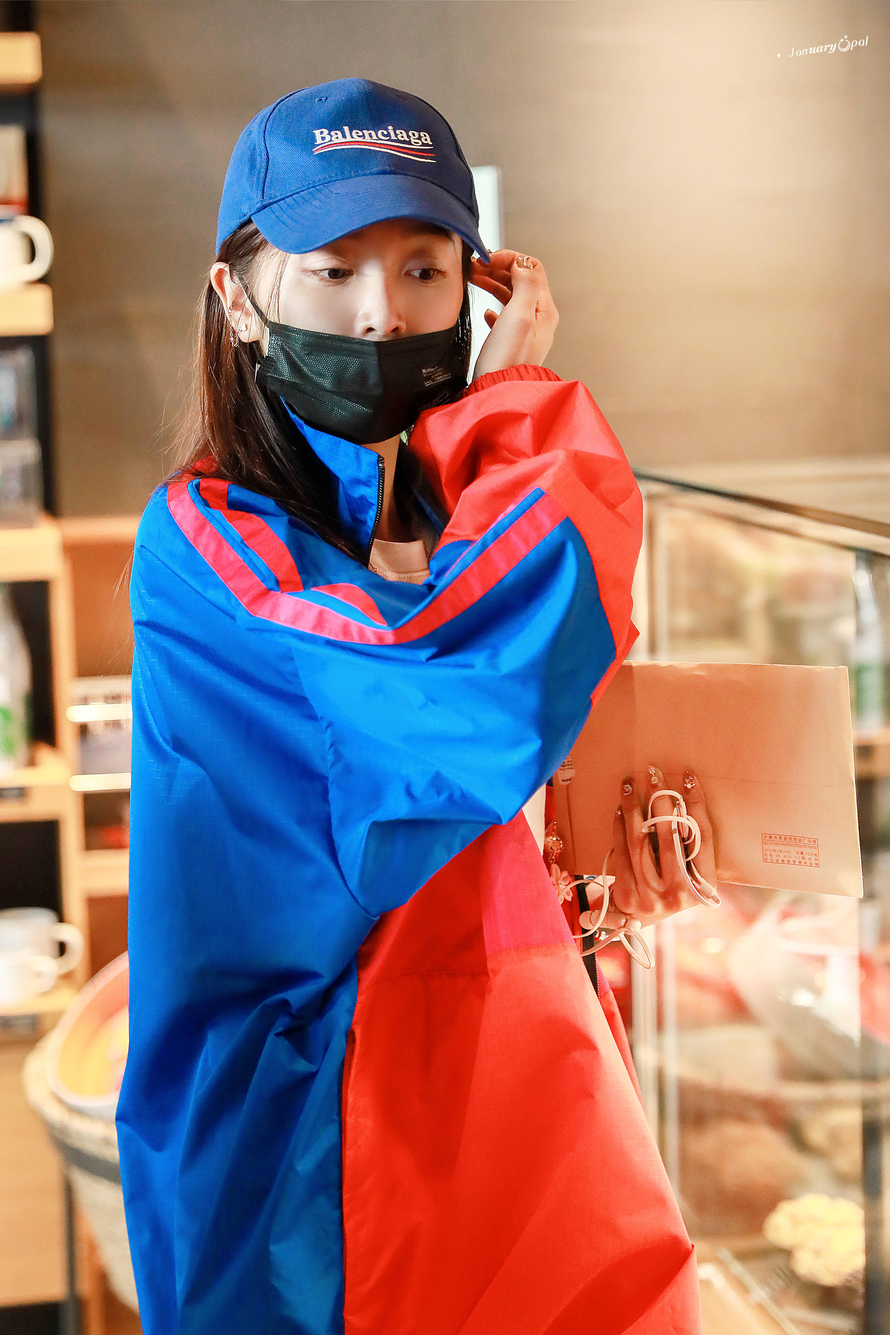WRONG: (259, 217, 468, 440)
